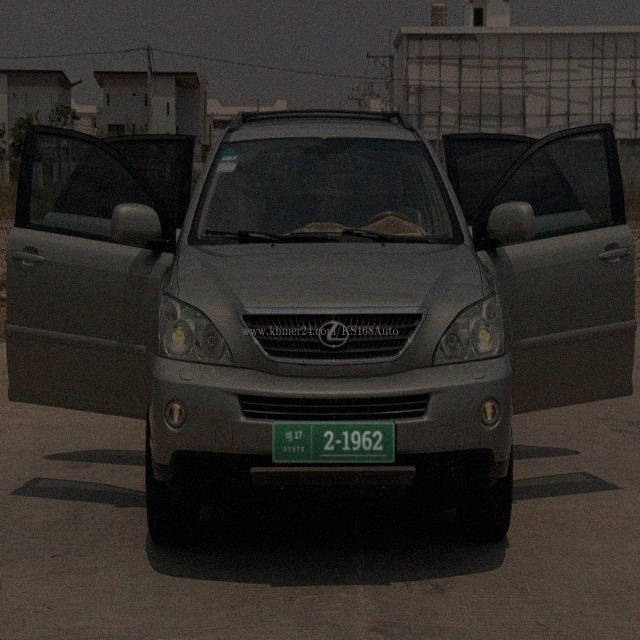Plate Number: (272, 421, 396, 464)
